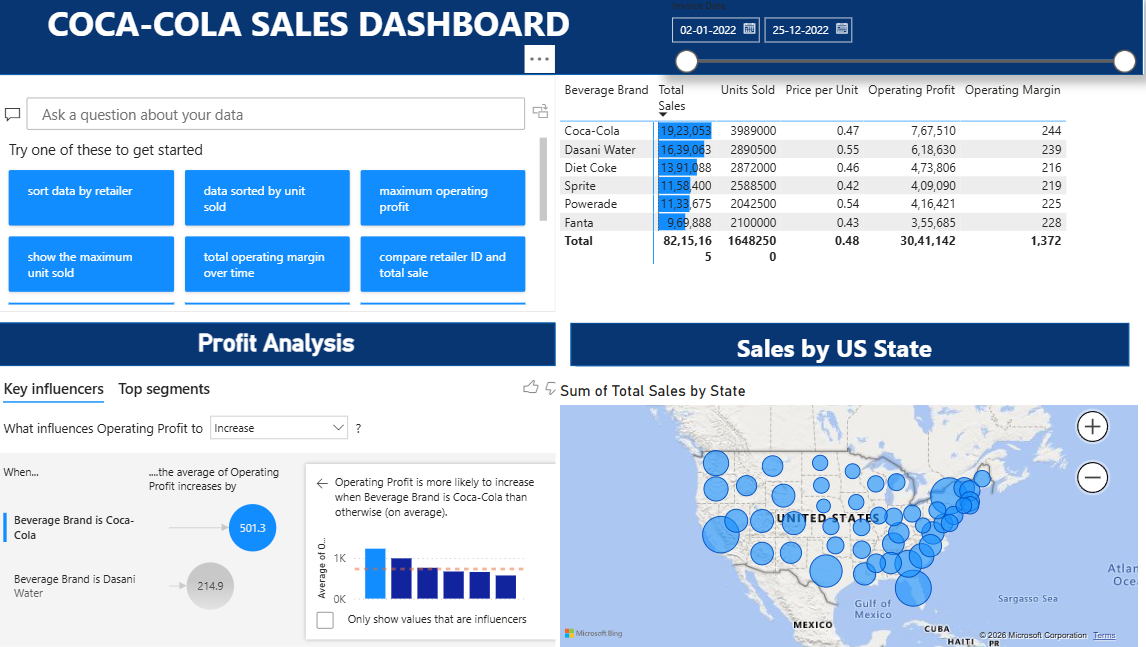

This screenshot's page, from the dashboard's own definition file:
{"tool":"powerbi","page":{"name":"Page 1","canvas":[1280,720],"ordinal":0},"visuals":[{"type":"shape","box":[9.6,0,1258.3,87.8],"z":0},{"type":"shape","box":[9.6,359.5,613.4,48],"z":1000},{"type":"shape","box":[639.5,359.5,613.4,48],"z":2000},{"type":"qnaVisual","box":[9.6,87.8,613.4,260.7],"z":3000},{"type":"keyDriversVisual","fields":{"Target":["Data.Operating Profit"],"ExplainBy":["Data.Beverage Brand"]},"box":[0,407.5,644.9,312.9],"z":4000},{"type":"map","fields":{"Category":["Data.State"],"Size":["Sum(Data.Total Sales)"]},"box":[623,424,644.9,296.4],"z":5000},{"type":"pivotTable","fields":{"Rows":["Data.Beverage Brand"],"Values":["Sum(Data.Total Sales)","Sum(Data.Units Sold)","Avg(Data.Price per Unit)","Sum(Data.Operating Profit)","Sum(Data.Operating Margin)"]},"box":[622.9,87.2,644.3,272.3],"z":6000},{"type":"slicer","title":"Date","fields":{"Values":["Data.Invoice Date"]},"box":[738.6,0,530.4,87.2],"z":7000},{"type":"textbox","title":"Profit Analysis","box":[165.5,366.6,300.8,40.9],"z":8000},{"type":"textbox","box":[622.9,363.1,608.7,48.1],"z":9000},{"type":"textbox","box":[60.5,0,653.2,87.2],"z":10000}]}

Visuals, with their boxes in screenshot pixels (x1, y1, x2, y2), scaled from the page's 1280x720 canvas onto the 1146x647 screenshot:
shape: (9,0,1135,79)
shape: (9,323,558,366)
shape: (573,323,1122,366)
qnaVisual: (9,79,558,313)
keyDriversVisual - Data.Operating Profit x Data.Beverage Brand: (0,366,577,646)
map - Data.State x Sum(Data.Total Sales): (558,381,1135,646)
pivotTable - Data.Beverage Brand x Sum(Data.Total Sales): (558,78,1135,323)
"Date" slicer: (661,0,1136,78)
"Profit Analysis" textbox: (148,329,417,366)
textbox: (558,326,1103,370)
textbox: (54,0,639,78)
